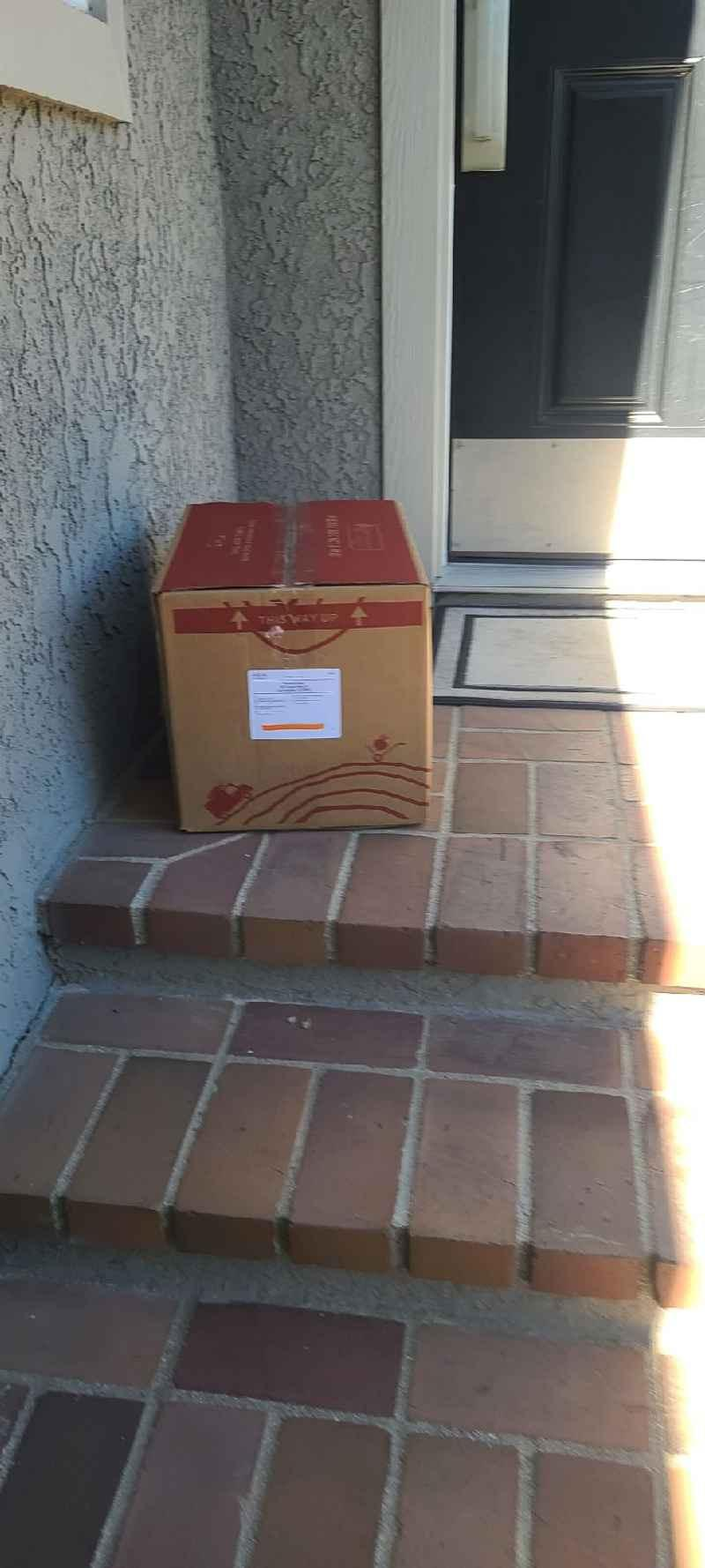package: (147, 497, 449, 850)
